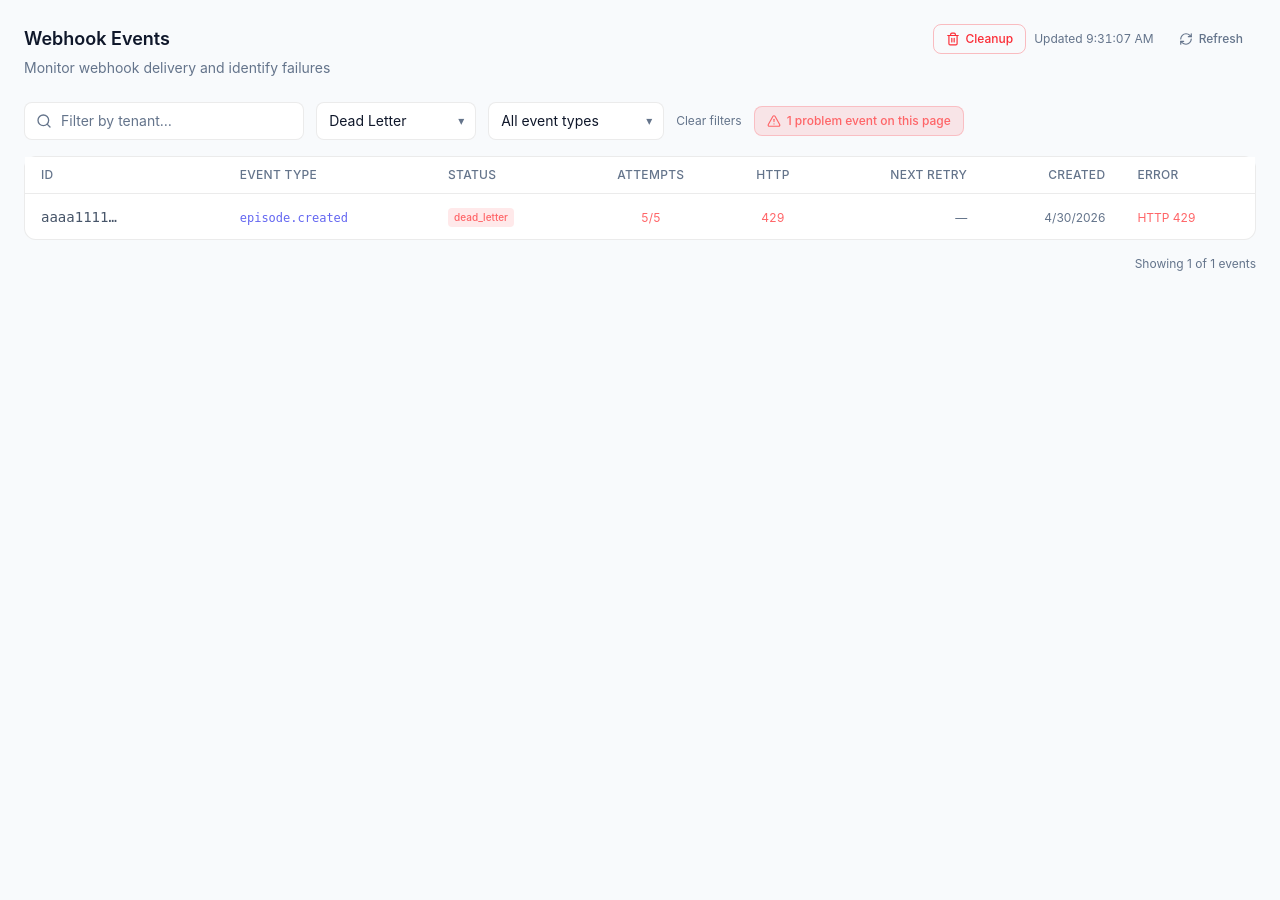
Test: WebhooksPage cleanup › a successful cleanup surfaces a "Deleted N webhook events" toast
Click the button "Cleanup".
click(979, 39)  # box [932,24,1026,54]
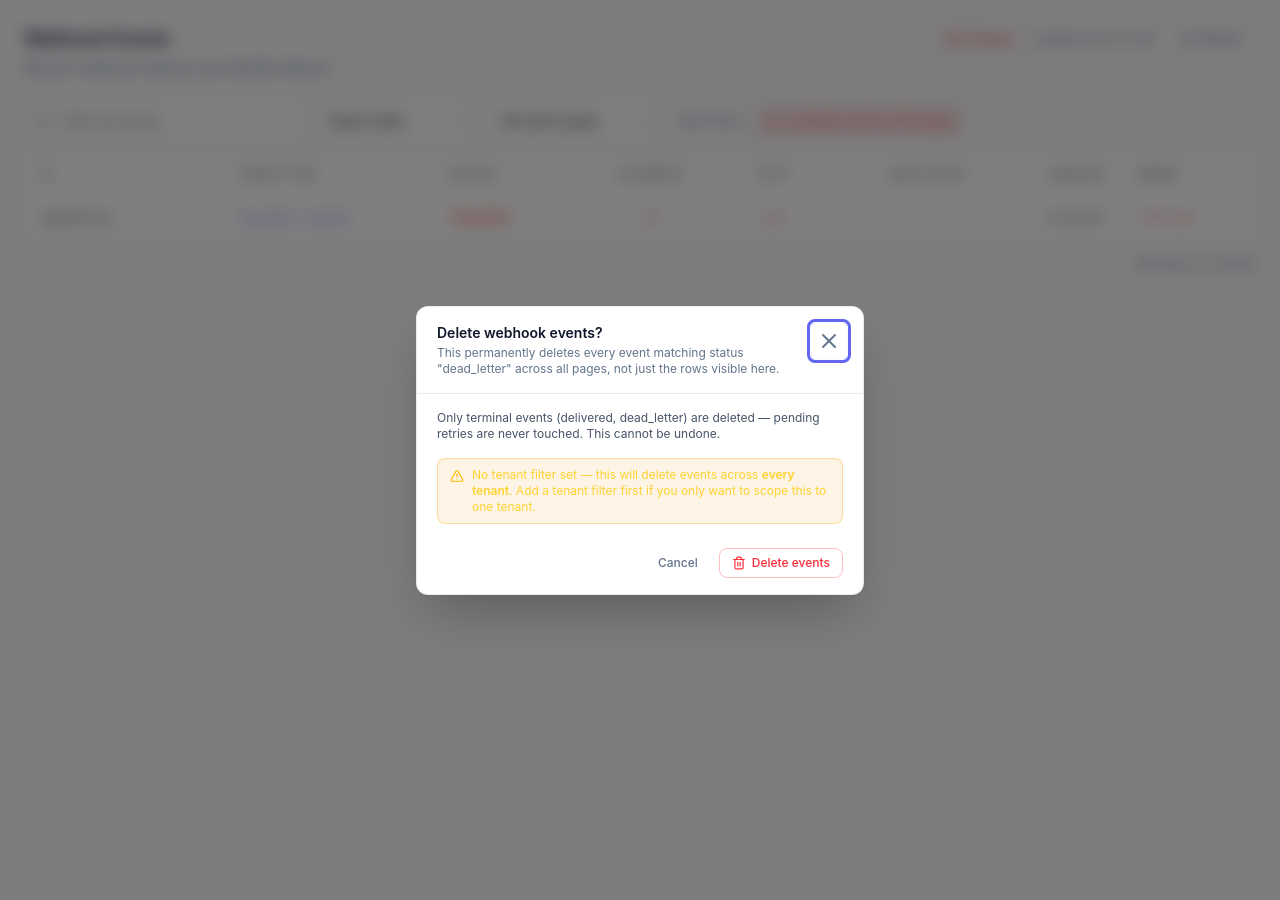
Click the button "Delete events".
click(781, 562)  # box [719,548,843,578]
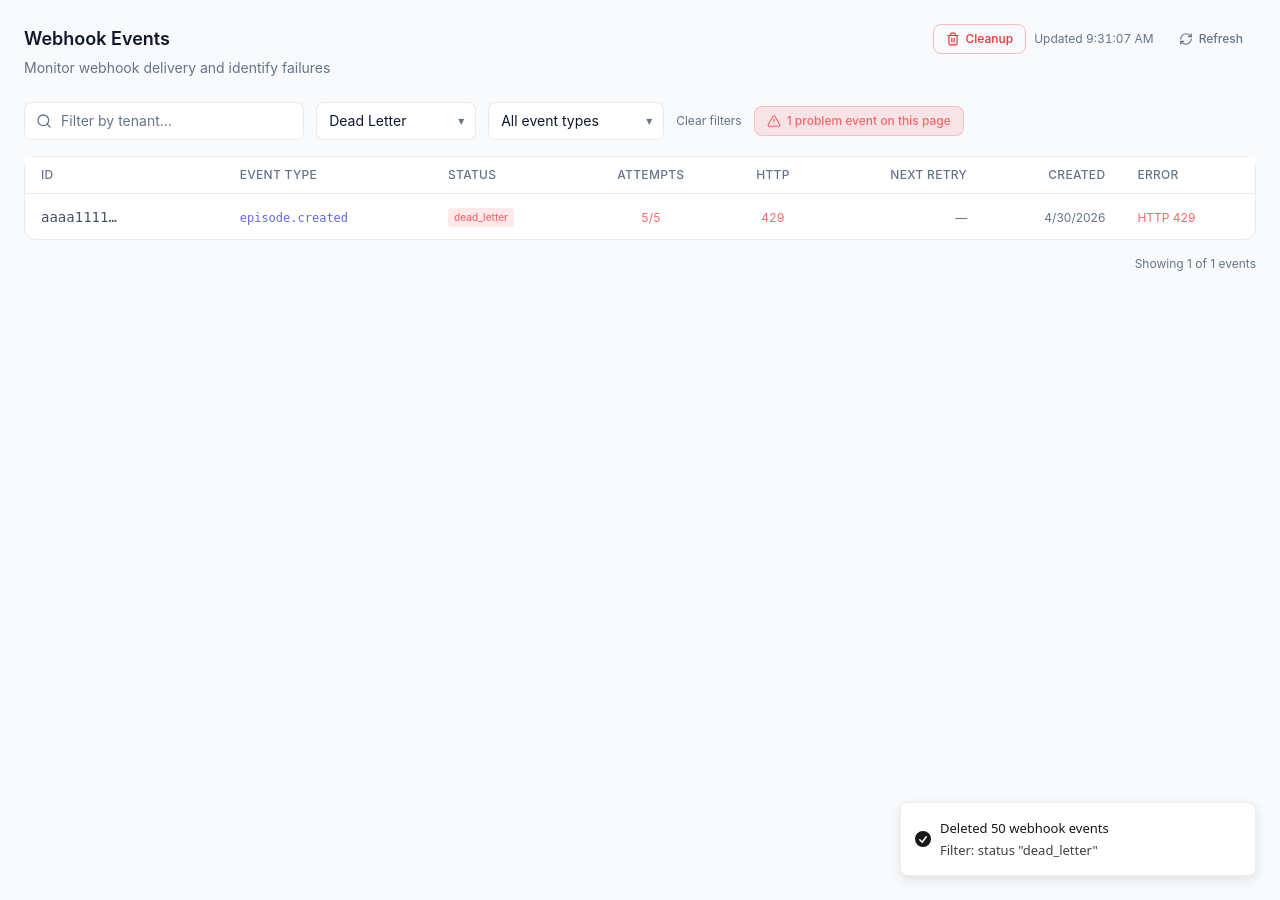
Now the text "Deleted 50 webhook events" is shown, box [940,819,1109,839]
